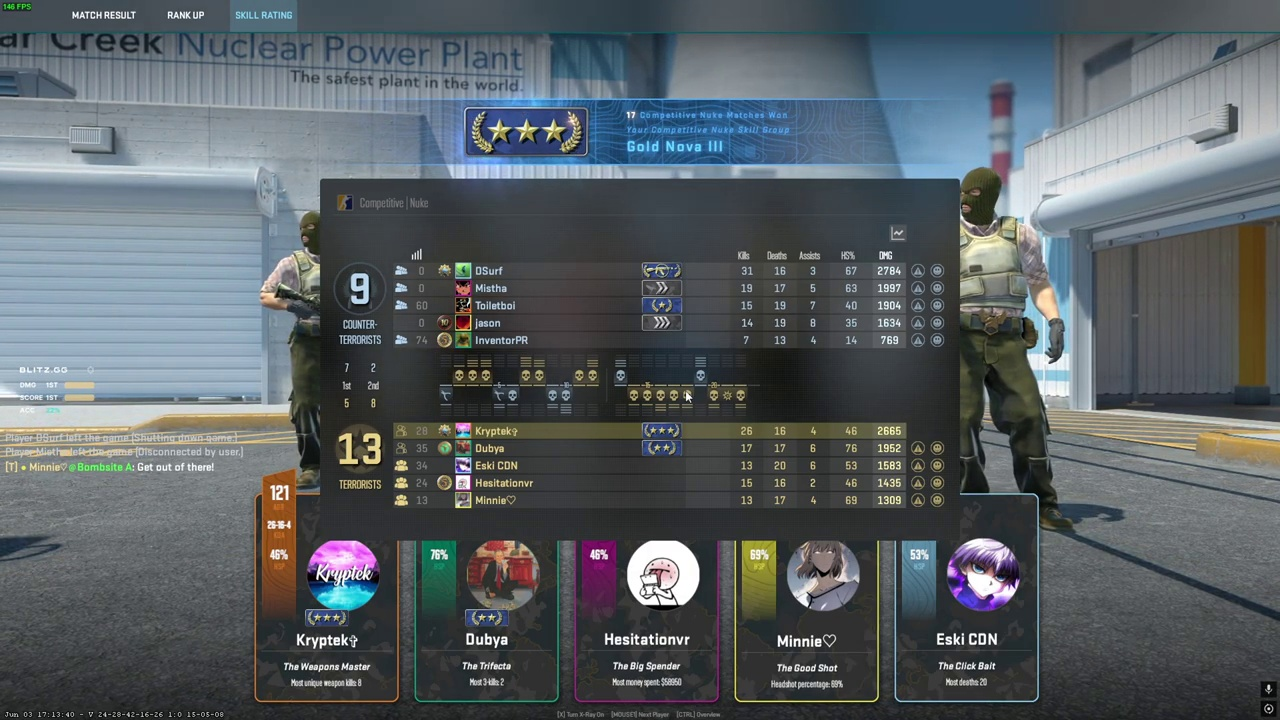Terrorist: (957, 166, 1060, 528), (271, 211, 323, 483)
